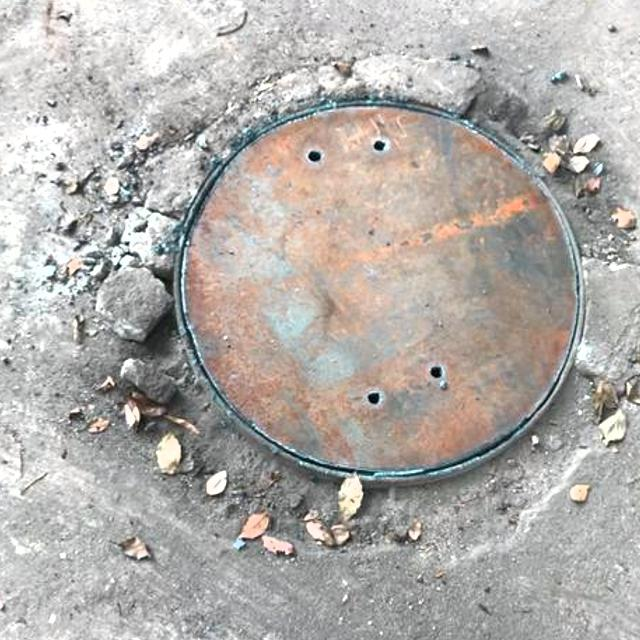circle: (37, 41, 634, 588)
